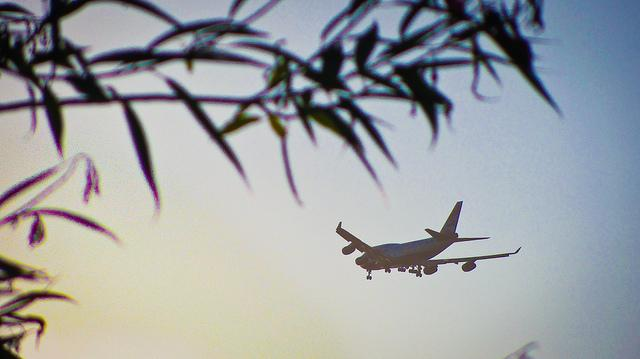airplane: (334, 199, 523, 281)
